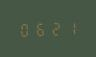one: (63, 19, 77, 35)
six: (33, 20, 47, 37)
two: (48, 19, 62, 36)
zero: (18, 21, 32, 37)
